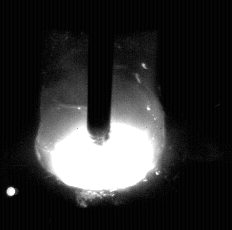arame: (88, 0, 113, 146)
poca: (35, 0, 165, 230)
